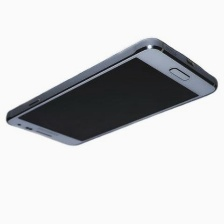phone: (4, 35, 220, 149)
